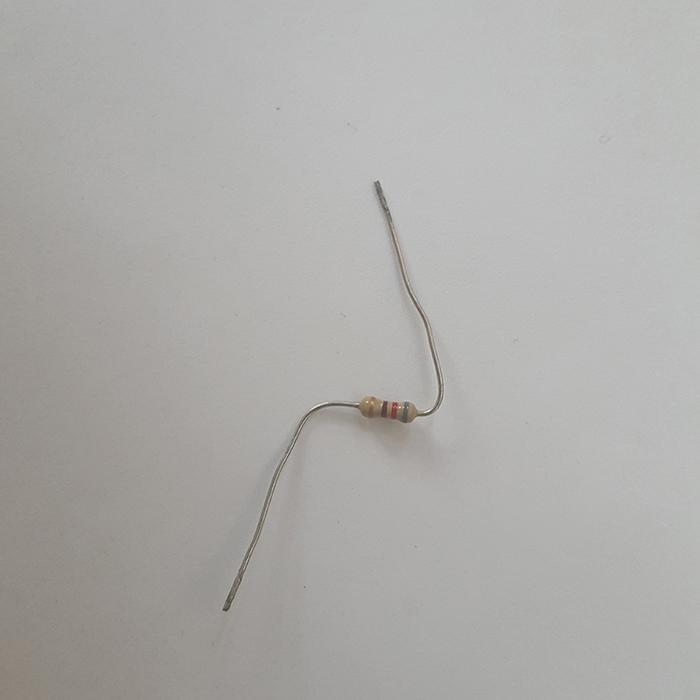resistor: (359, 394, 418, 422)
